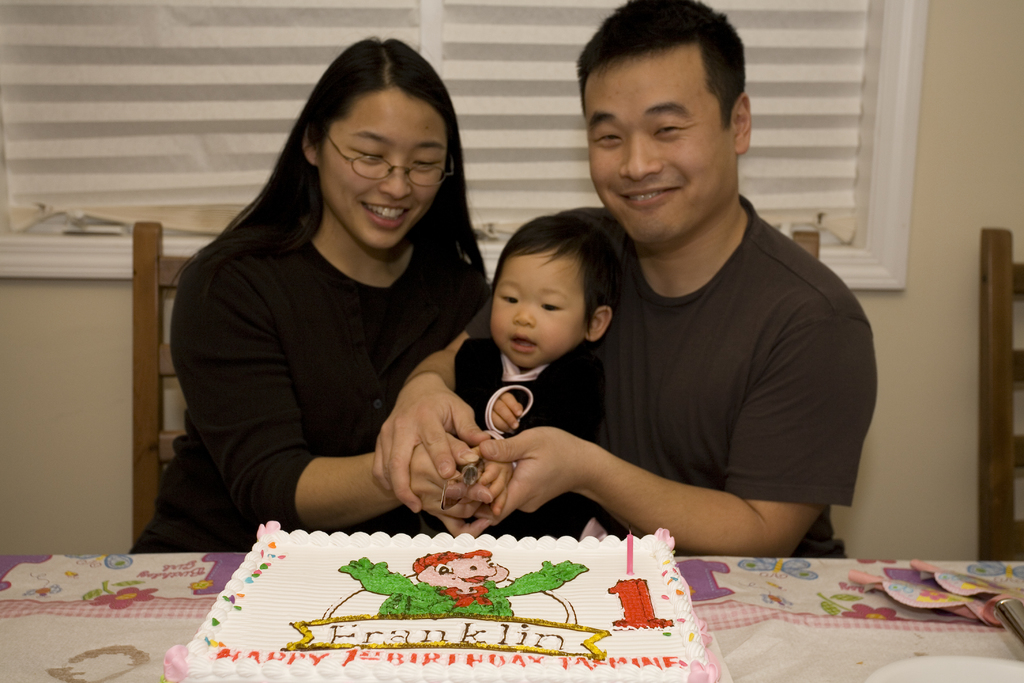cake: (163, 516, 708, 682)
